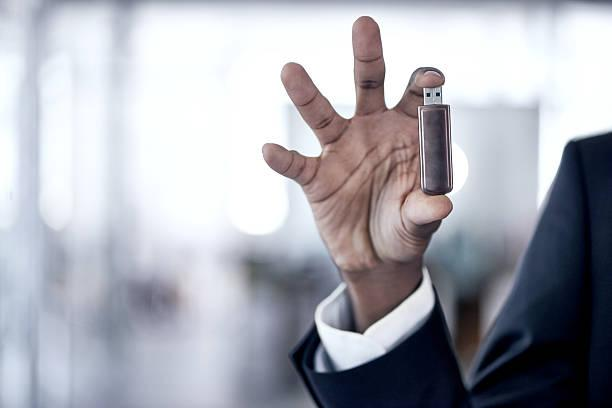USB Flash Drive: (417, 86, 454, 197)
